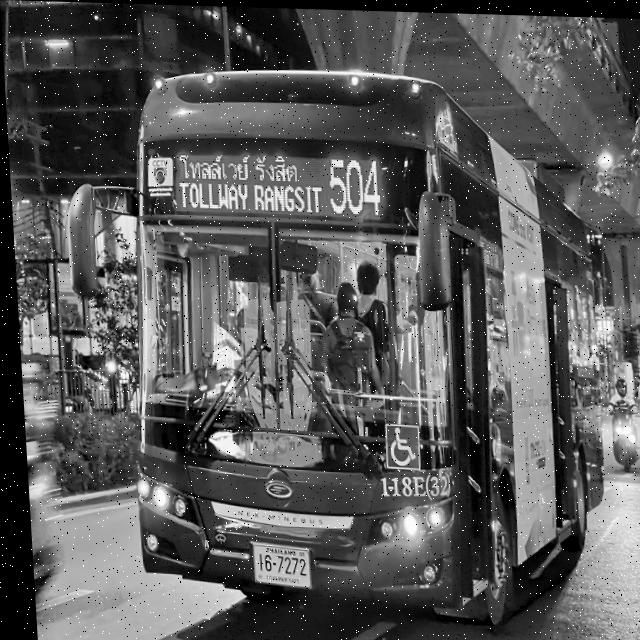Bus-Line-Number: (322, 152, 384, 215)
Destination-Sign-Normal: (168, 144, 322, 215)
TSB-Bus: (106, 50, 612, 635)
